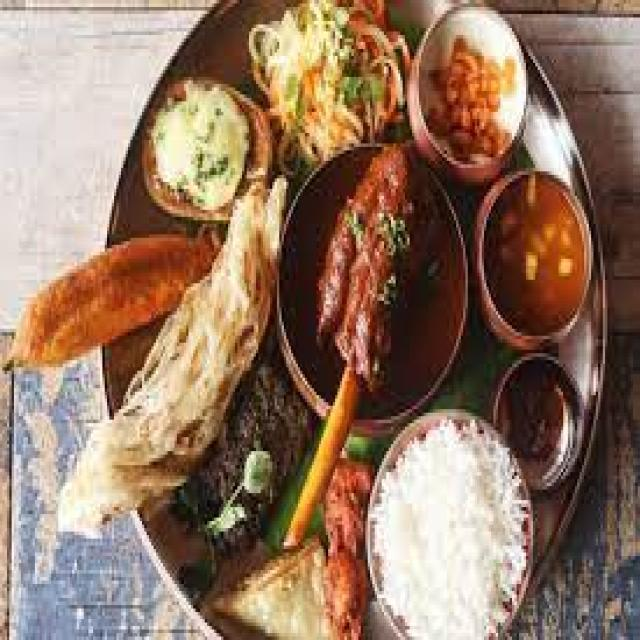curd: (128, 66, 262, 221)
papad: (91, 199, 275, 516)
raita: (132, 67, 259, 220)
rice: (362, 430, 531, 638), (252, 12, 376, 167)
sambar-rasam: (474, 173, 596, 343)
sweet: (275, 140, 470, 409)
